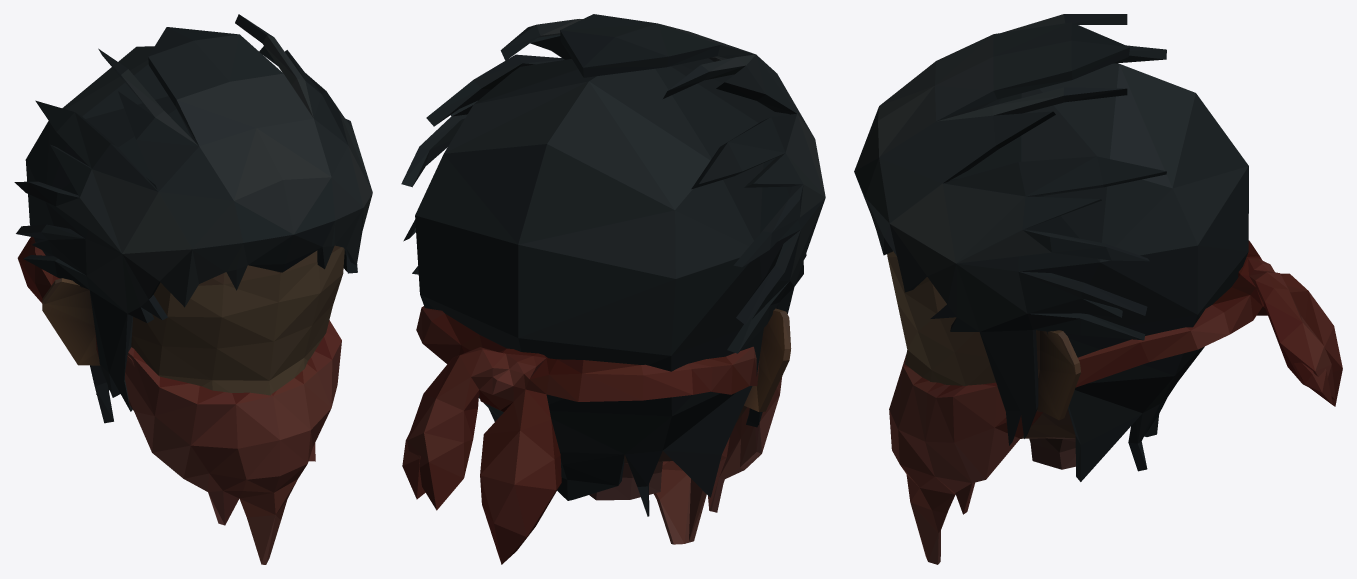
The model's file is helm_darkskin_spike_black_bandana.fbx.
3 views of the same model, side by side, from view 1: azimuth 30°, elevation 25°; view 2: azimuth 150°, elevation 25°; view 3: azimuth 270°, elevation 25° (orthographic). The views are drawn at different scales.
Parts seen in each view (by area): view 1: helm_darkskin_spike_black_bandana; view 2: helm_darkskin_spike_black_bandana; view 3: helm_darkskin_spike_black_bandana.
Boxes of the visible parts, bbox=[...] form: helm_darkskin_spike_black_bandana: bbox=[14, 14, 372, 564]; helm_darkskin_spike_black_bandana: bbox=[401, 14, 825, 564]; helm_darkskin_spike_black_bandana: bbox=[854, 14, 1342, 564].
Size of the model in its own units: 1.13 by 1.71 by 1.46.
